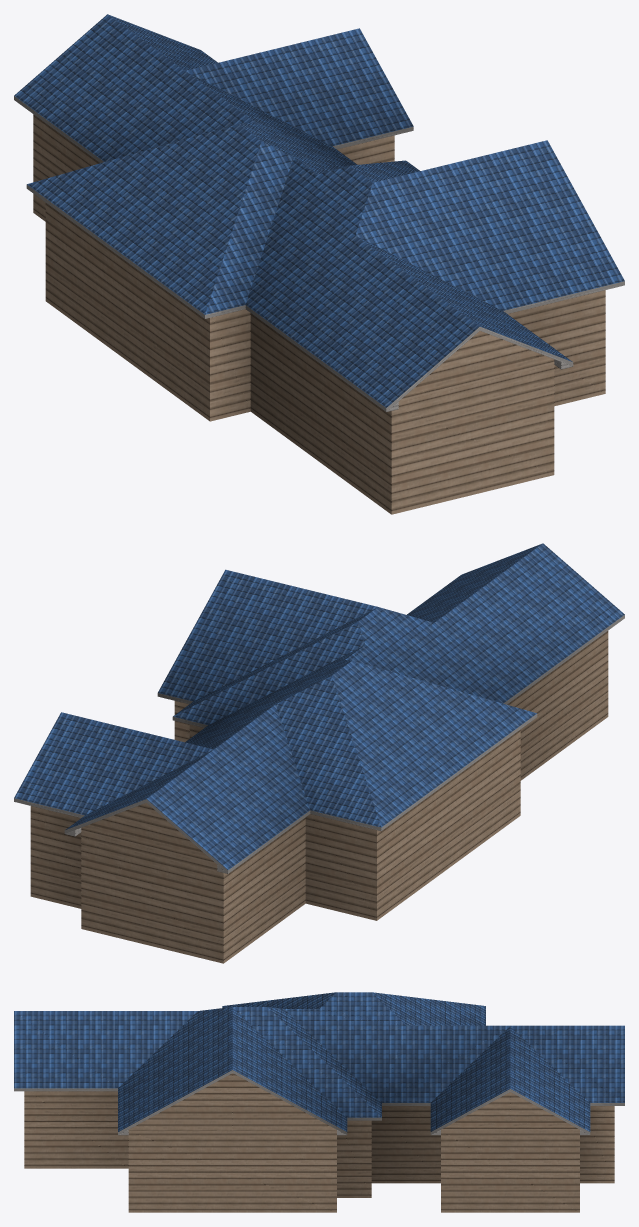
The model's file is house_09.glb.
3 views of the same model, one above another, from view 1: azimuth 30°, elevation 25°; view 2: azimuth 150°, elevation 25°; view 3: azimuth 270°, elevation 25° (orthographic). The views are drawn at different scales.
Visible parts, largest first — view 1: Export; view 2: Export; view 3: Export.
Boxes of the visible parts, x1,y1,x2,y2 form: Export: (14, 14, 624, 514); Export: (14, 543, 624, 963); Export: (14, 992, 624, 1212).
Size of the model in its own units: 8.6 by 4.68 by 17.6.
Materials: 3 (3 with a texture image).
